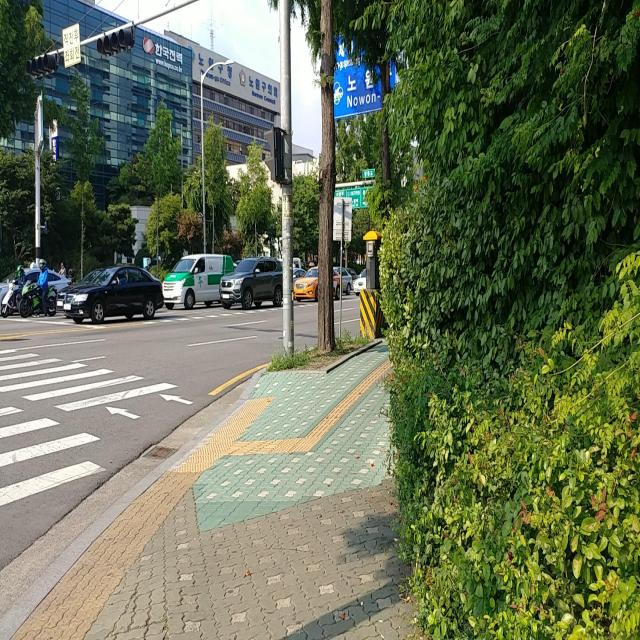횡단보도: (0, 346, 195, 510)
